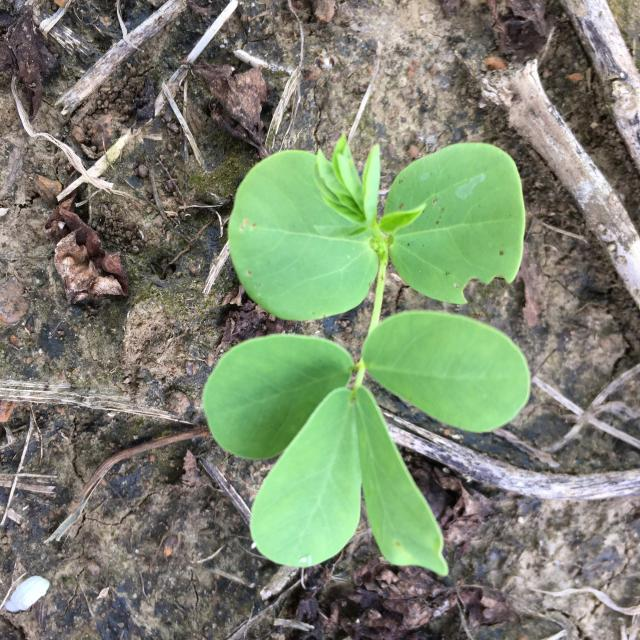Sicklepod: (204, 133, 530, 576)
